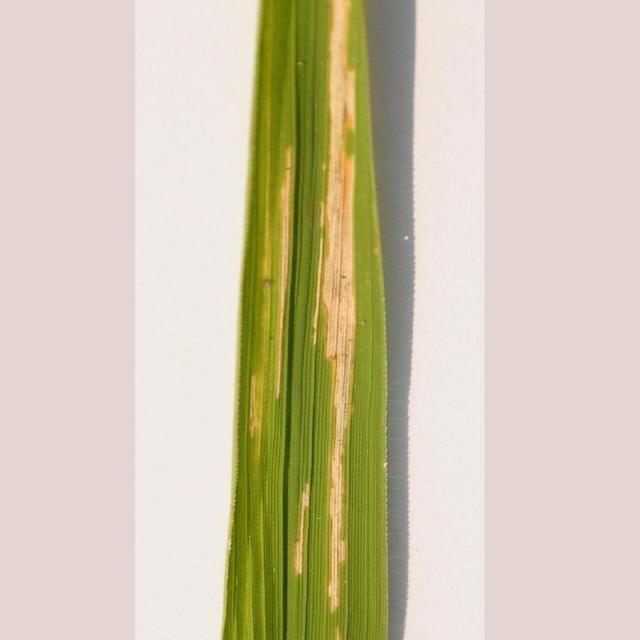Bacterial leaf blight: (316, 2, 364, 610), (242, 134, 292, 487), (294, 481, 312, 582)
